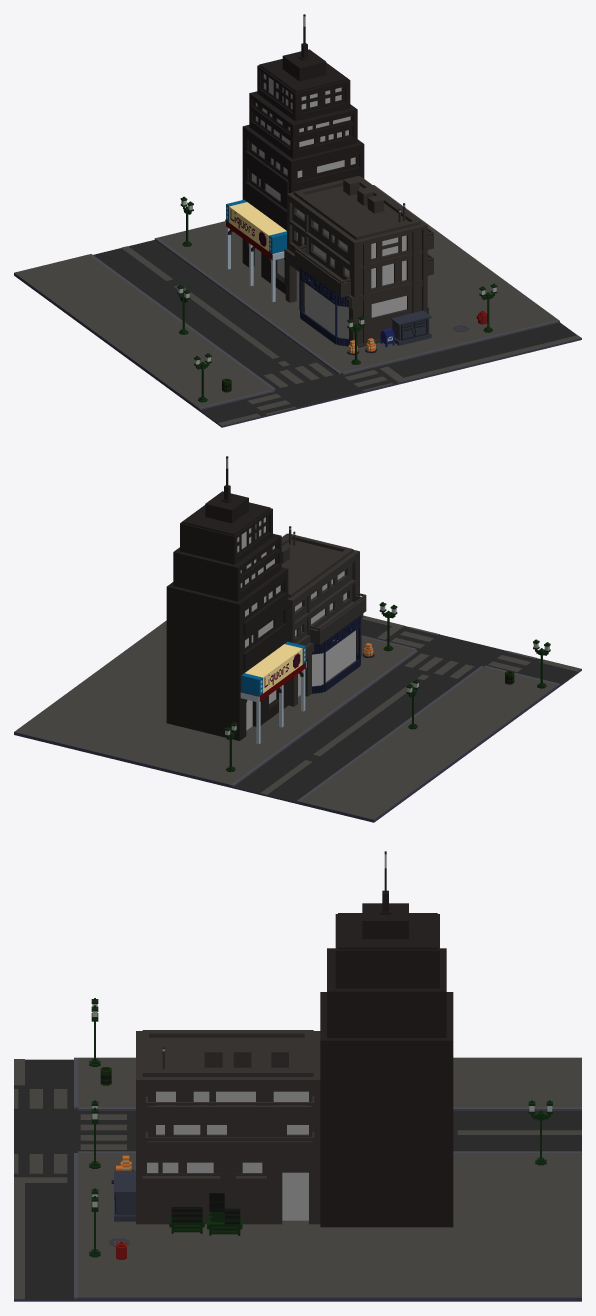
The model's file is Street1-3.fbx.
The picture shows the model from 3 angles, top to bottom: view 1: azimuth 30°, elevation 25°; view 2: azimuth 150°, elevation 25°; view 3: azimuth 270°, elevation 25°; orthographic projection. The views are drawn at different scales.
Visible parts, largest first — view 1: Street1_3_001; view 2: Street1_3_001; view 3: Street1_3_001.
Part boxes in pixels (x1,y1,x2,y2): Street1_3_001: [14, 14, 581, 427]; Street1_3_001: [14, 456, 581, 822]; Street1_3_001: [14, 851, 581, 1301].
Size of the model in its own units: 25.6 by 17.68 by 25.6.
